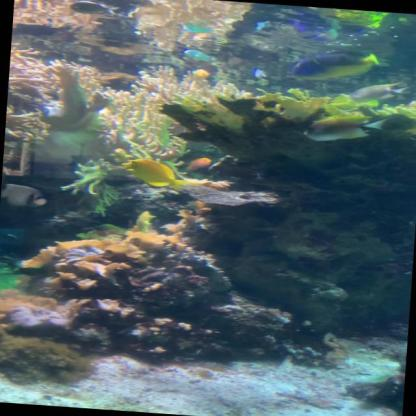fish: (297, 105, 399, 149), (286, 47, 382, 86), (340, 78, 415, 111), (120, 158, 188, 190), (0, 182, 48, 209), (182, 153, 220, 175), (70, 0, 119, 16)
